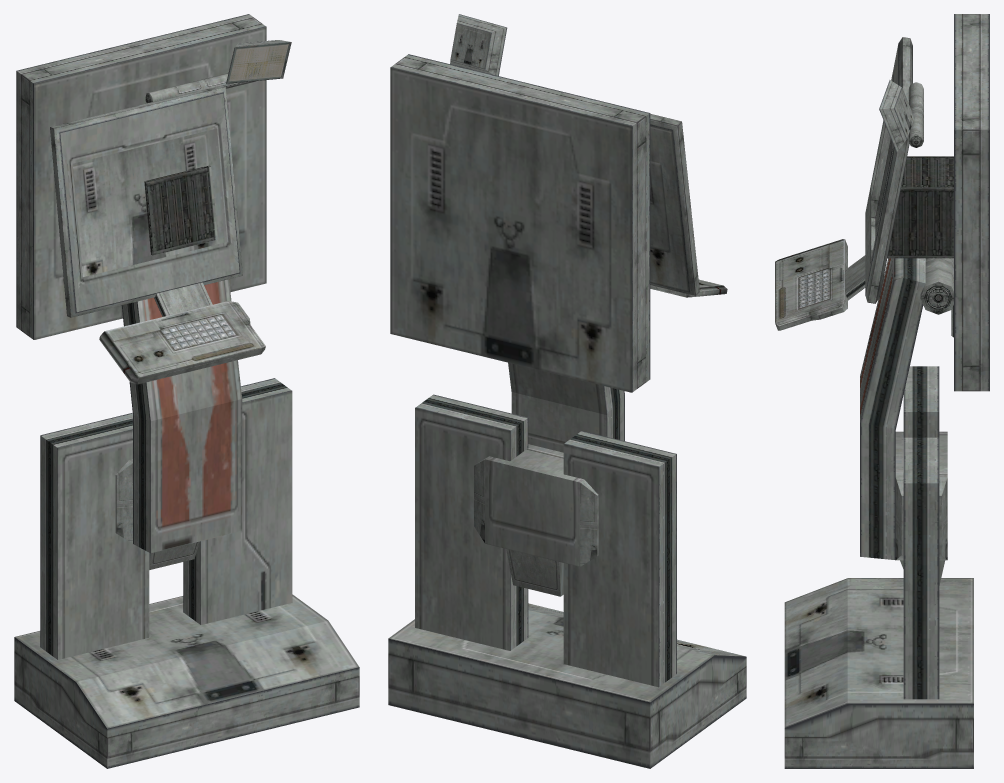
Rendered from ksk_all_mission_l0.fbx.
3 renders of one model, left to right at view 1: azimuth 30°, elevation 25°; view 2: azimuth 150°, elevation 25°; view 3: azimuth 270°, elevation 25°, orthographic. The views are drawn at different scales.
Parts seen in each view (by area): view 1: mesh_node; view 2: mesh_node; view 3: mesh_node.
Part boxes in pixels (x1,y1,x2,y2): mesh_node: (14, 14, 359, 768); mesh_node: (388, 14, 746, 768); mesh_node: (775, 14, 989, 768).
Size of the model in its own units: 0.8471 by 2.05 by 0.6127.
3 materials, 3 textured.
